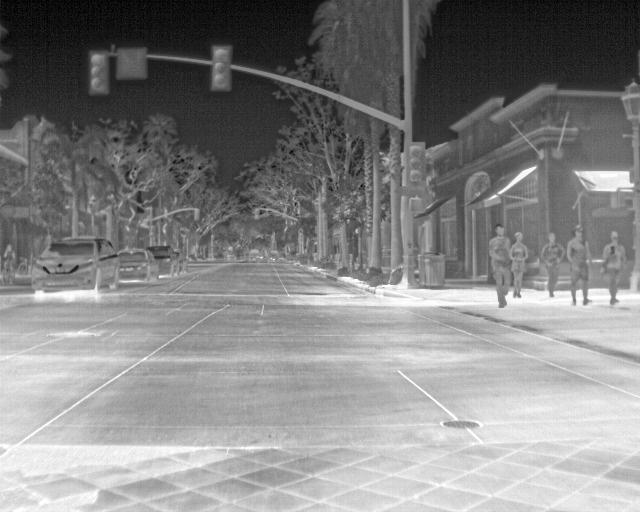bicycle: (31, 237, 123, 292), (121, 249, 160, 284), (149, 246, 180, 274)
empty: (488, 224, 516, 305), (564, 227, 591, 305), (600, 228, 624, 302), (508, 229, 530, 297), (539, 233, 561, 297), (1, 243, 18, 286)
